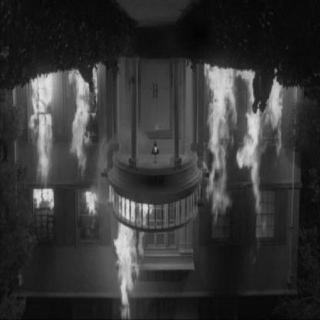Fire: (203, 62, 285, 244), (110, 190, 152, 316), (68, 64, 100, 223), (28, 70, 58, 224)
